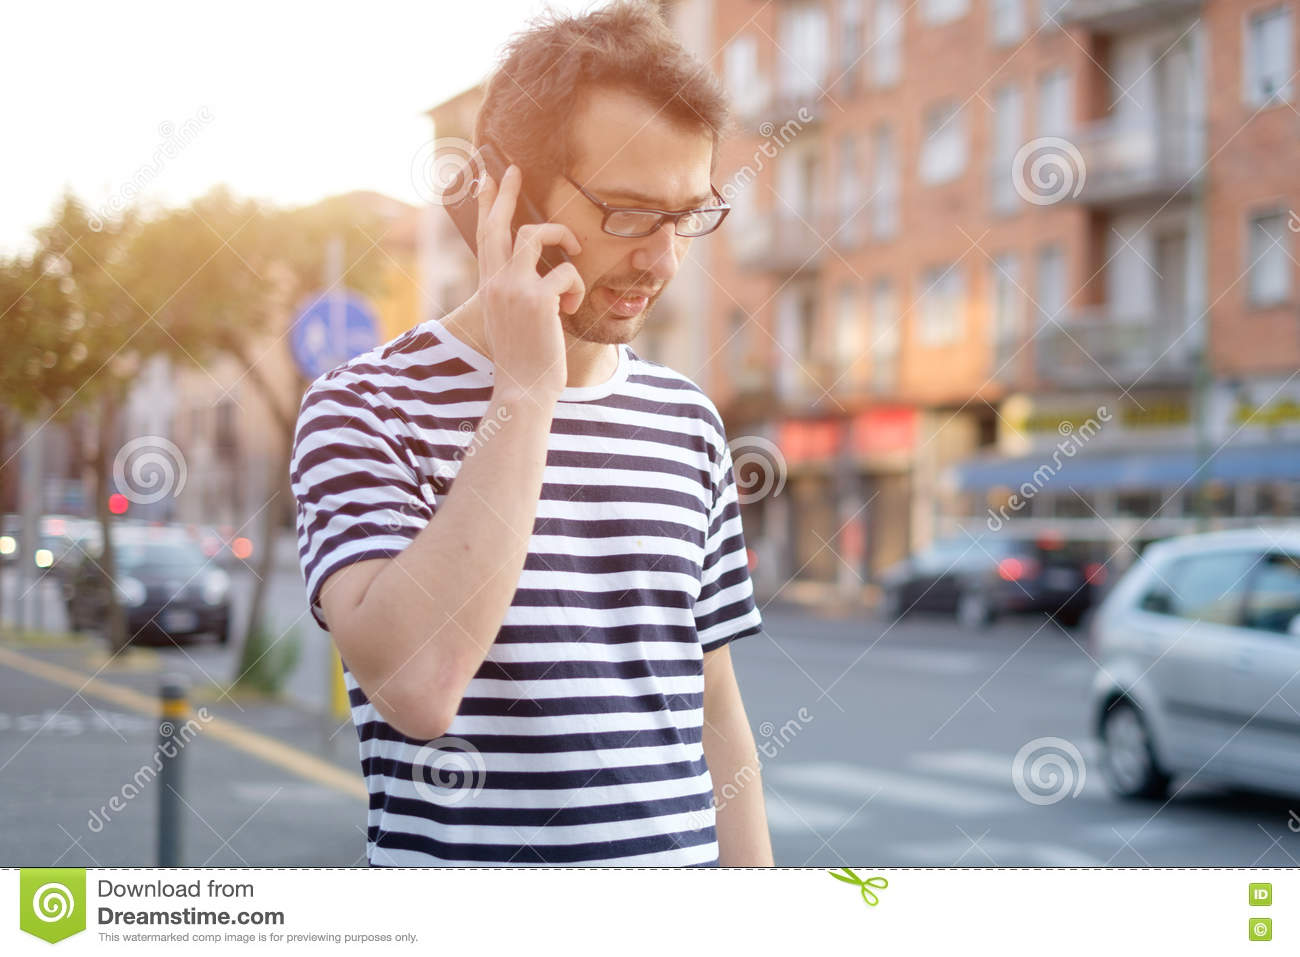phone: (444, 153, 584, 305)
talk: (444, 140, 712, 396)
